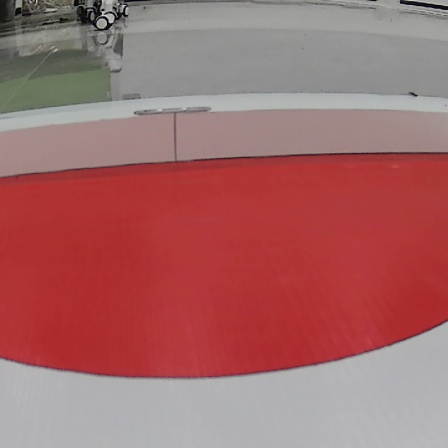red_base: (3, 151, 448, 382)
